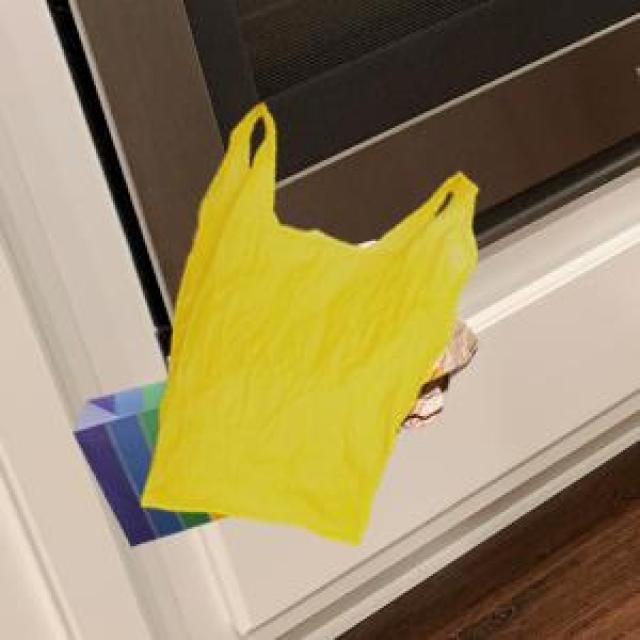paper: (70, 376, 226, 542), (350, 237, 474, 425)
